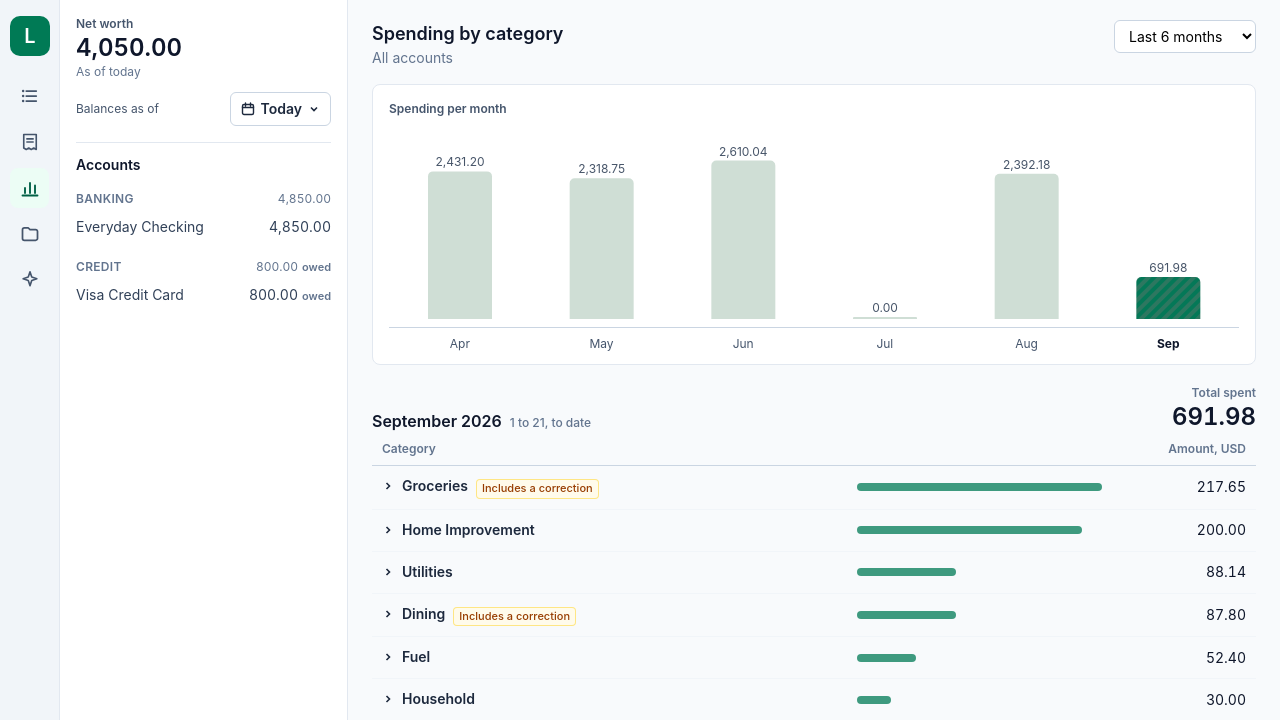
Test: selecting a month › updates the chart, the table, the total and the URL together, without a new report request
Click the button "Aug" at (1027, 344), box [956,336,1097,352]
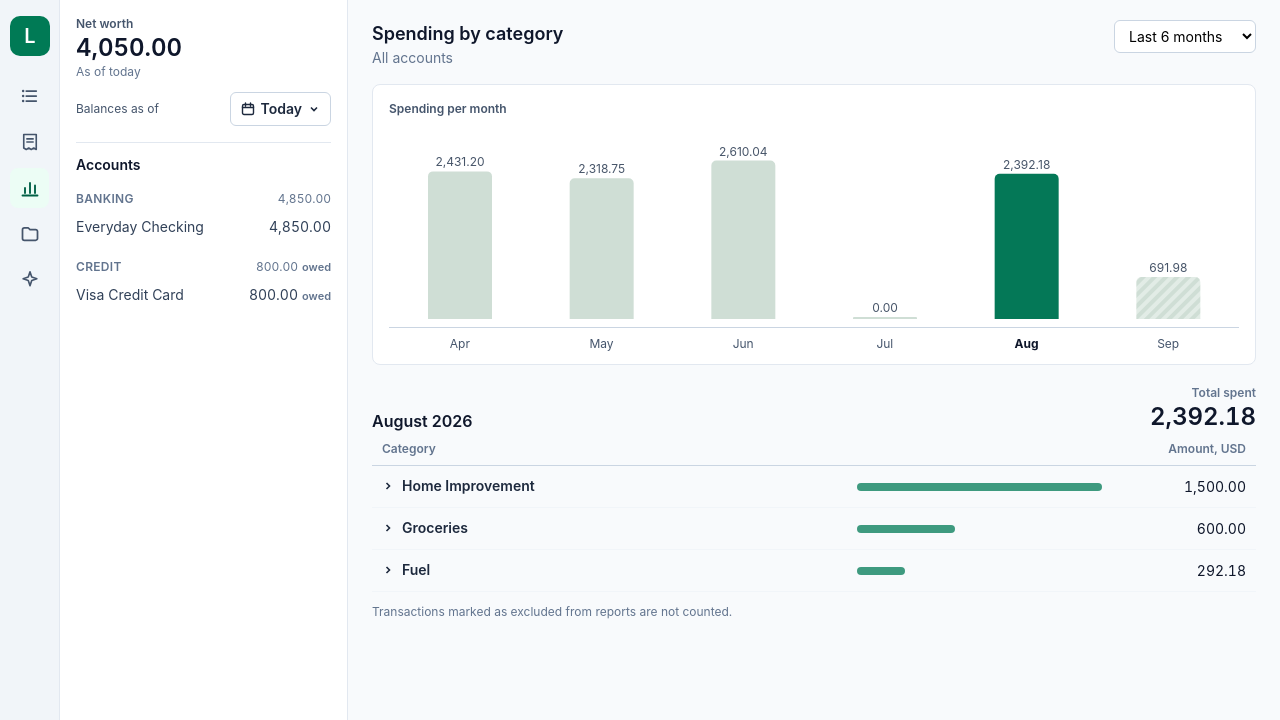
Expected: the heading "September 2026" is gone
Expected: the text "2,392.18" is shown, [1150,401,1256,433]
Expected: the text "to date" is gone
